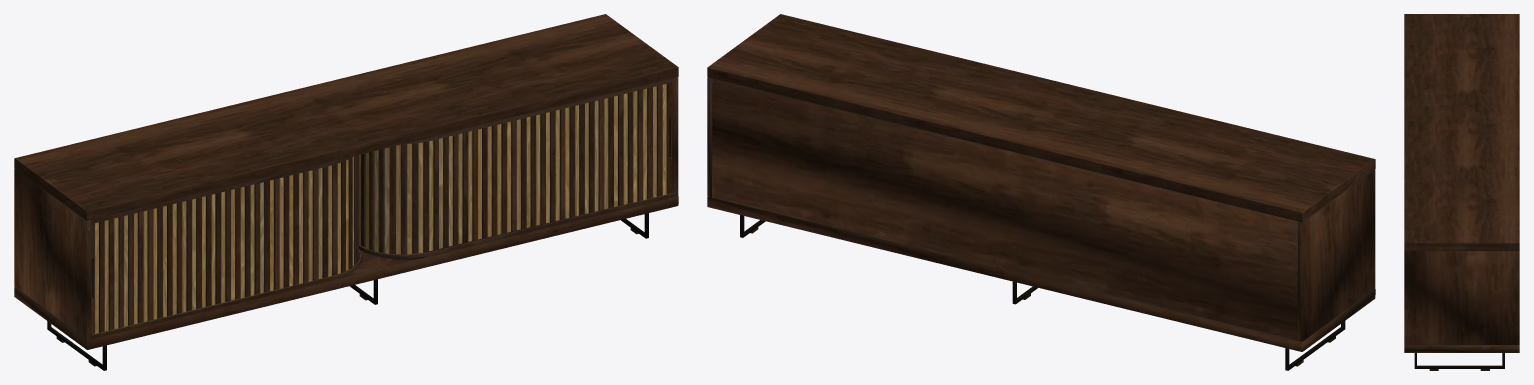
The model's file is modern_wooden_cabinet.glb.
The picture shows the model from 3 angles, left to right: view 1: azimuth 30°, elevation 25°; view 2: azimuth 150°, elevation 25°; view 3: azimuth 270°, elevation 25°; orthographic projection. The views are drawn at different scales.
Visible parts, largest first — view 1: modern_wooden_cabinet_body, modern_wooden_cabinet_door_l; view 2: modern_wooden_cabinet_body; view 3: modern_wooden_cabinet_body.
Part boxes in pixels (bbox=[...]): modern_wooden_cabinet_body: bbox=[14, 14, 678, 370]; modern_wooden_cabinet_door_l: bbox=[91, 82, 672, 334]; modern_wooden_cabinet_body: bbox=[707, 14, 1375, 370]; modern_wooden_cabinet_body: bbox=[1404, 14, 1519, 370].
Size of the model in its own units: 2.44 by 0.6801 by 0.5201.
Materials: 1 (1 with a texture image).
